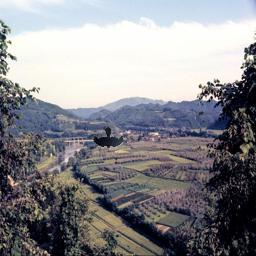Crow: (93, 128, 123, 149)
